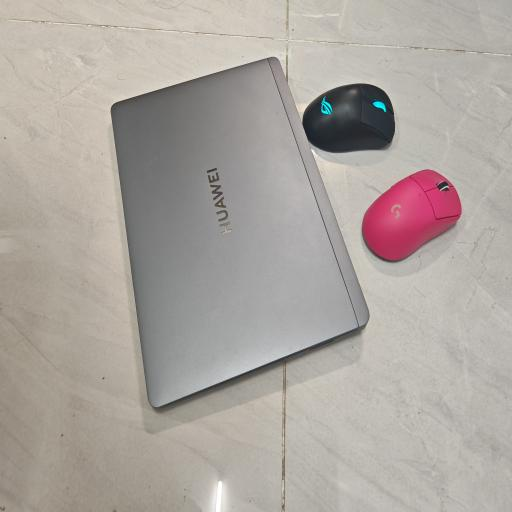laptop: (112, 57, 368, 407)
mouse: (362, 170, 462, 260), (302, 84, 395, 152)
